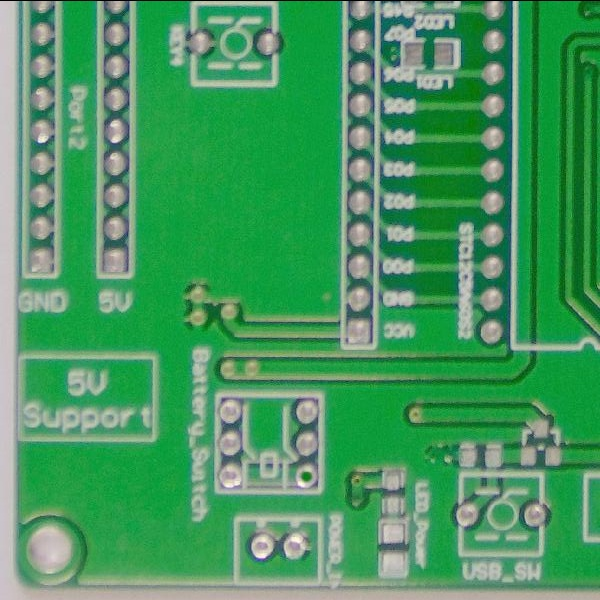missing_hole: (294, 460, 318, 490)
